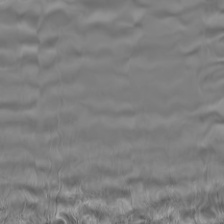cavities: (36, 89, 194, 154)
